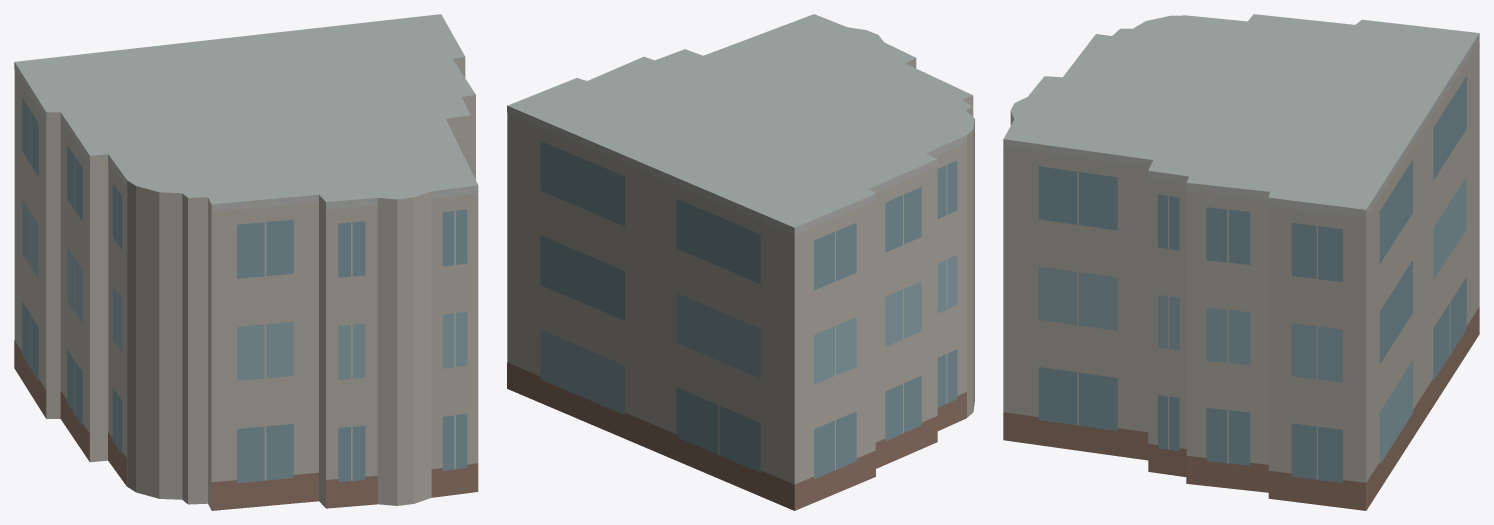
Rendered from survey-upis-32805389.glb.
3 renders of one model, left to right at view 1: azimuth 30°, elevation 25°; view 2: azimuth 150°, elevation 25°; view 3: azimuth 270°, elevation 25°, orthographic. The views are drawn at different scales.
Parts seen in each view (by area): view 1: survey-upis-32805389.tmp; view 2: survey-upis-32805389.tmp; view 3: survey-upis-32805389.tmp.
Part boxes in pixels (<box>): survey-upis-32805389.tmp: <box>14,14,478,510</box>; survey-upis-32805389.tmp: <box>507,14,974,510</box>; survey-upis-32805389.tmp: <box>1003,14,1479,510</box>.
Bounding box in the file's own units: 13.54 × 9.7 × 13.92.
